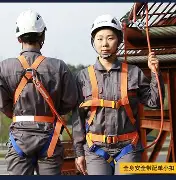safety belt: (8, 57, 66, 157), (81, 64, 137, 162)
